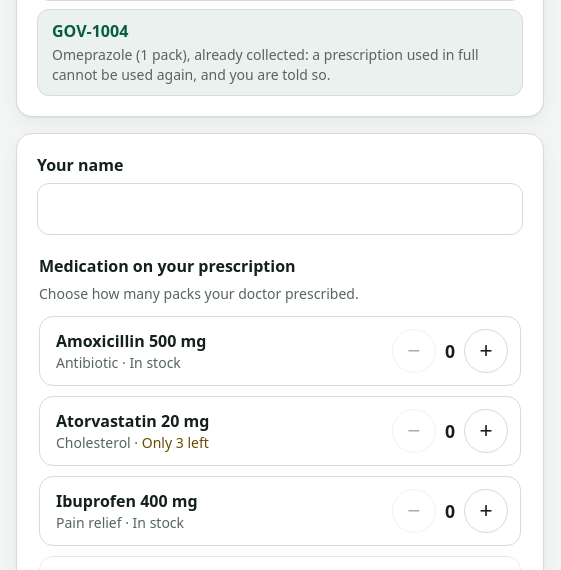
Test case: check-in by hand › asks for a medication before it asks the backend anything
(page scrolled)
Expected: the text "Amoxicillin 500 mg" is shown, [56,330,206,352]
Type "Maria" into the field labelled "Your name".
click(280, 209); type("Maria")  # box [37,183,523,235]
(page scrolled)
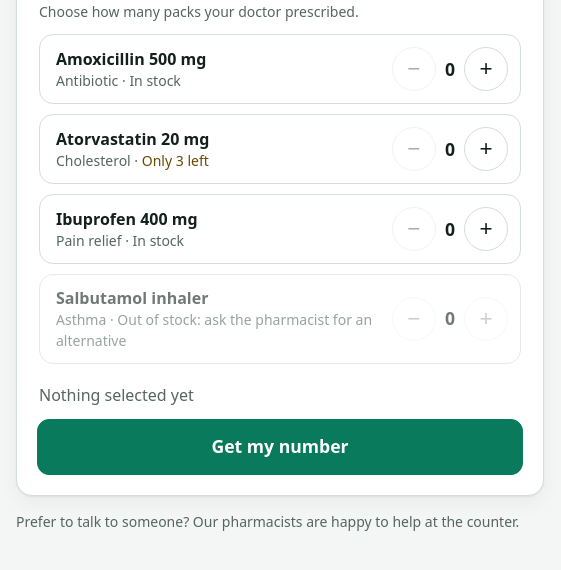
Click the button "Get my number".
click(280, 447)  # box [37,419,523,475]
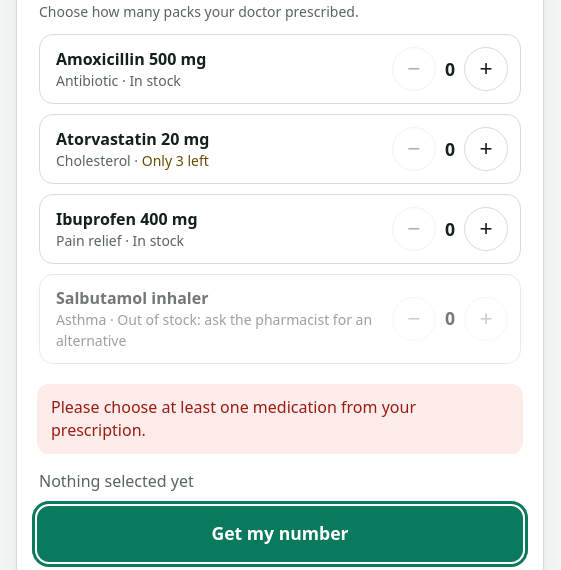
Expected: the message reads "Please choose at least one medication from your prescription.", [51,396,416,441]
